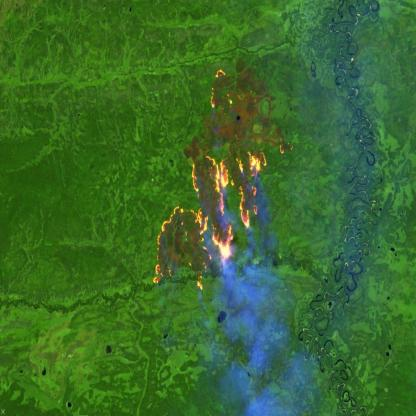fire: (154, 150, 268, 292), (206, 67, 235, 109), (278, 139, 296, 157)
